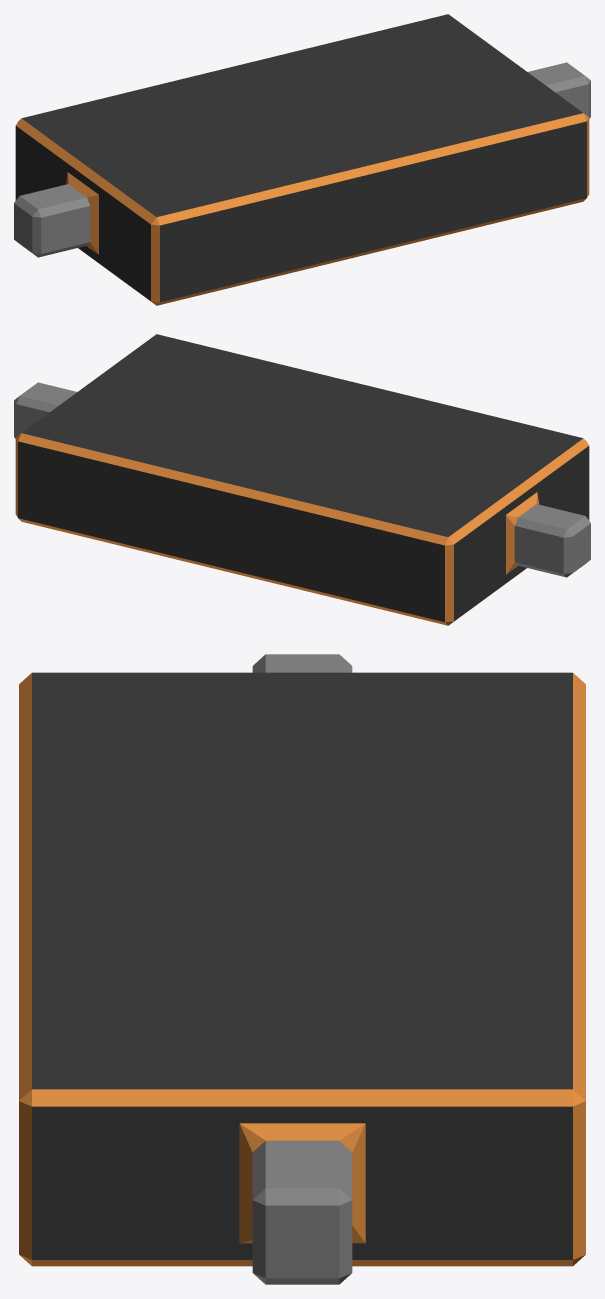
The model's file is platform.fbx.
The picture shows the model from 3 angles, top to bottom: view 1: azimuth 30°, elevation 25°; view 2: azimuth 150°, elevation 25°; view 3: azimuth 270°, elevation 25°; orthographic projection. The views are drawn at different scales.
Visible parts, largest first — view 1: Platform; view 2: Platform; view 3: Platform.
Part boxes in pixels (<box>): Platform: <box>14,14,590,305</box>; Platform: <box>14,334,590,625</box>; Platform: <box>19,654,585,1284</box>.
Size of the model in its own units: 4.4 by 1.93 by 0.6667.
